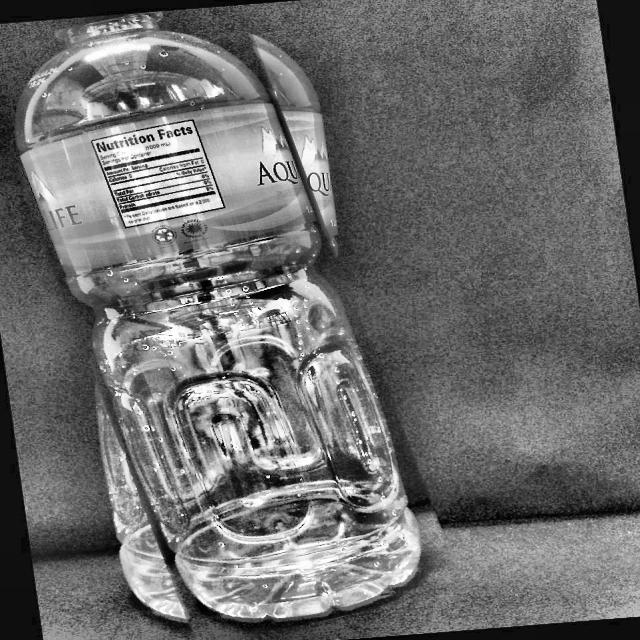Plastic-Bottle: (0, 0, 434, 640)
